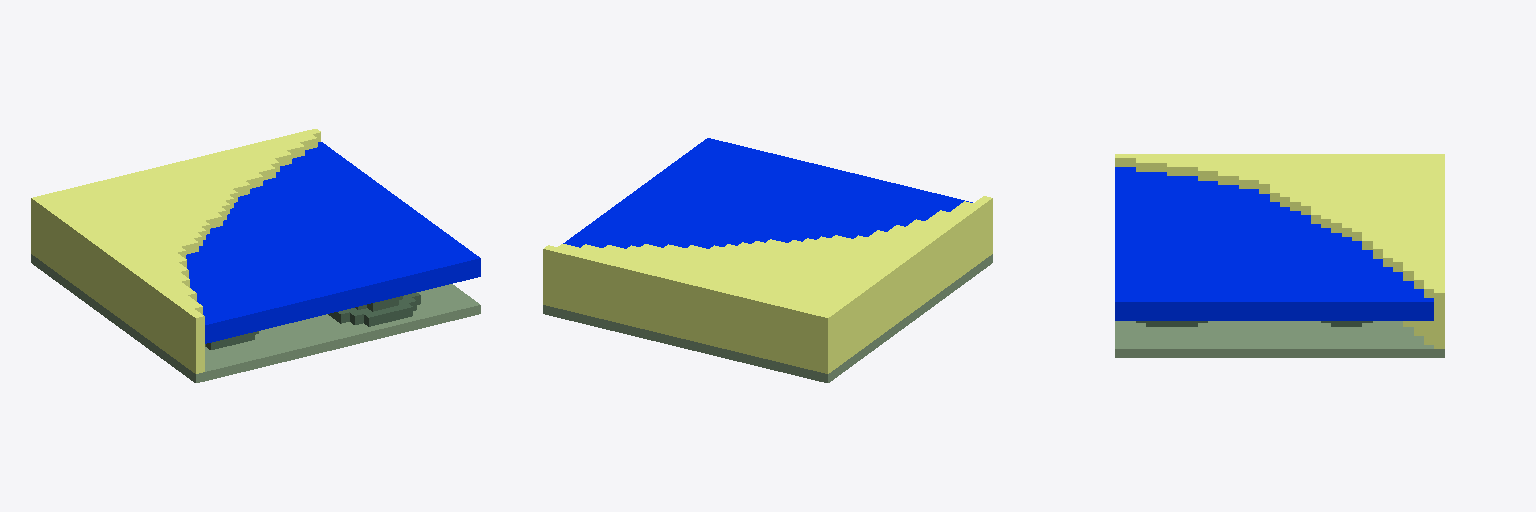
3 renders of one model, left to right at view 1: azimuth 30°, elevation 25°; view 2: azimuth 150°, elevation 25°; view 3: azimuth 270°, elevation 25°, orthographic.
Visible parts, largest first — view 1: kust; view 2: kust; view 3: kust.
Boxes of the visible parts, <box> form: kust: <box>31,129,480,382</box>; kust: <box>543,138,992,382</box>; kust: <box>1115,154,1444,357</box>.
Bounding box in the file's own units: 32 × 7 × 32.
Materials: 1 (1 with a texture image).